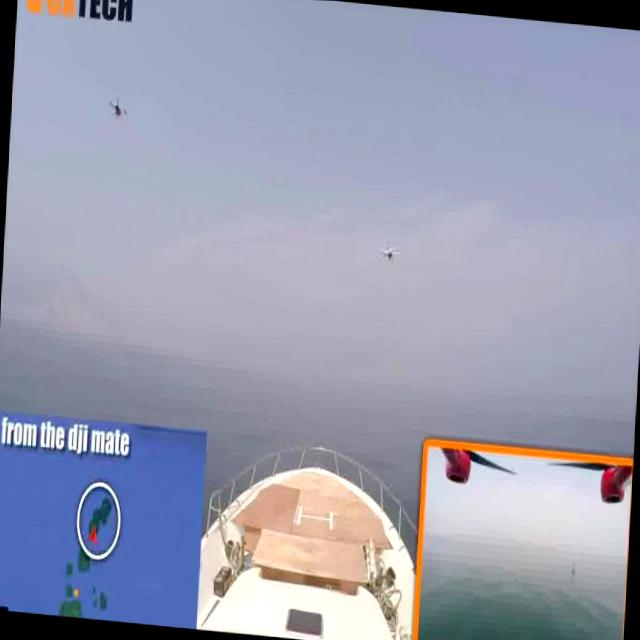drone: (100, 88, 134, 121), (377, 237, 402, 264)
